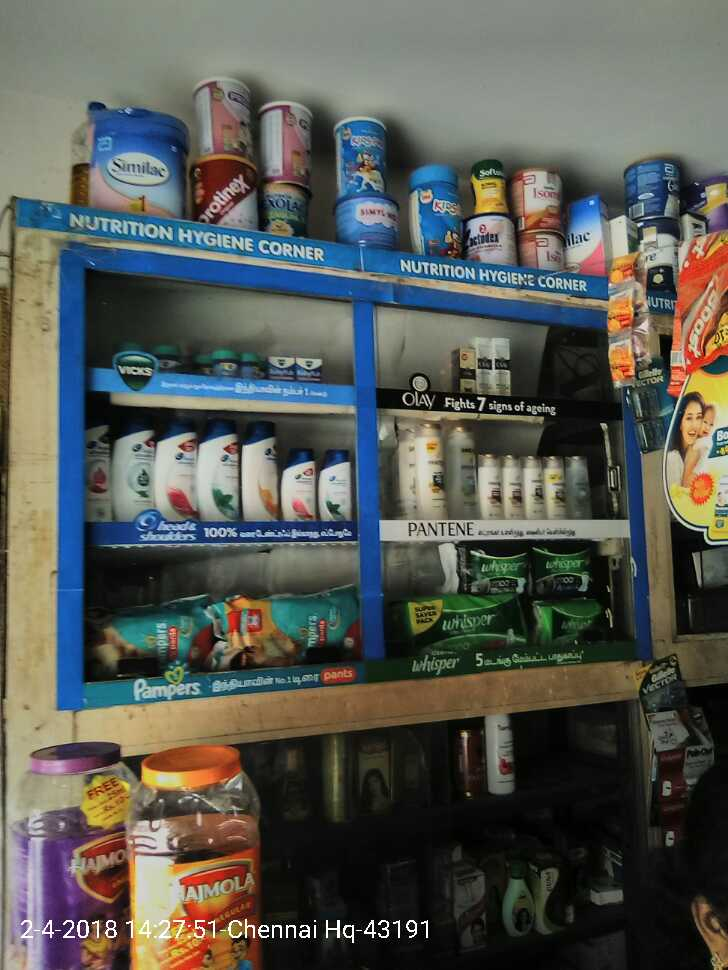vicks: (122, 342, 325, 378)
